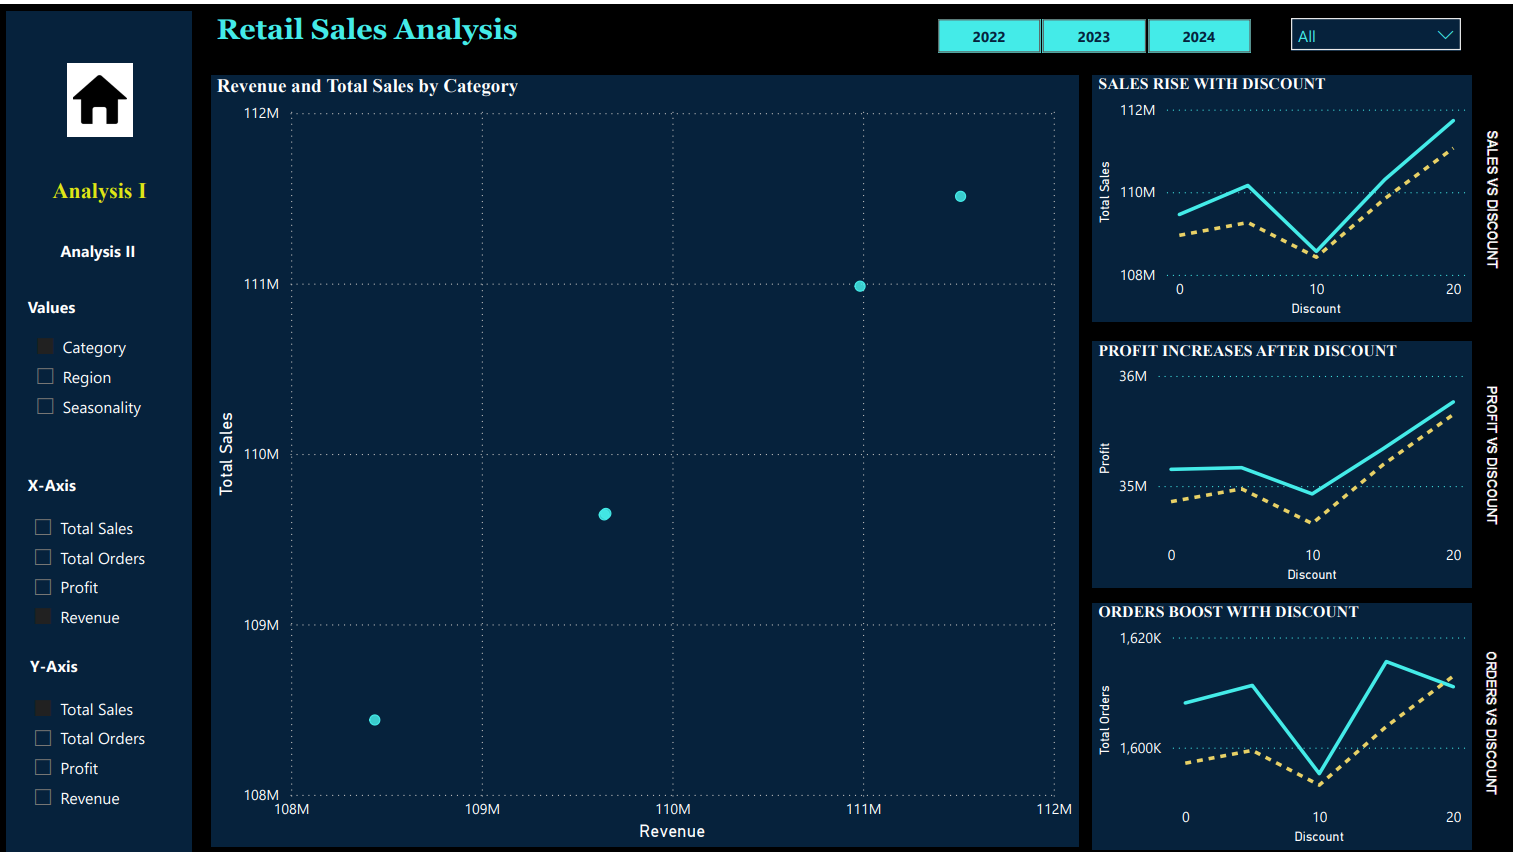

The page's visual inventory and layout, read from the dashboard file:
{"tool":"powerbi","page":{"name":"Analysis II","canvas":[1280,720],"ordinal":3},"visuals":[{"type":"shape","box":[7.5,5,156.2,711.2],"z":0},{"type":"image","box":[59.3,48.8,54.7,61.6],"z":1000},{"type":"scatterChart","fields":{"Series":["retail_store_inventory.Category"],"X":["retail_store_inventory.Revenue"],"Y":["retail_store_inventory.Total Sales"]},"box":[180.2,59.3,730.2,648.8],"z":2000},{"type":"textbox","box":[180.2,2.3,526.7,44.2],"z":3000},{"type":"lineChart","title":"ORDERS BOOST WITH DISCOUNT","fields":{"Category":["retail_store_inventory.Discount"],"Y":["retail_store_inventory.Total Orders"],"Y2":["Sum(retail_store_inventory.Units Sold)"]},"box":[922.1,503.5,318.6,207],"z":4000},{"type":"lineChart","title":"PROFIT INCREASES AFTER DISCOUNT","fields":{"Category":["retail_store_inventory.Discount"],"Y":["retail_store_inventory.Profit"],"Y2":["Sum(retail_store_inventory.Units Sold)"]},"box":[922.1,282.6,318.6,207],"z":5000},{"type":"lineChart","title":"SALES RISE WITH DISCOUNT","fields":{"Category":["retail_store_inventory.Discount"],"Y":["retail_store_inventory.Total Sales"],"Y2":["Sum(retail_store_inventory.Units Sold)"]},"box":[922.1,59.3,318.6,207],"z":6000},{"type":"image","box":[1240.5,536,39.5,138.4],"z":7000},{"type":"image","box":[1240.7,311.6,39.5,138],"z":8000},{"type":"image","box":[1241.9,94.2,37.2,138.4],"z":9000},{"type":"pageNavigator","box":[20.9,179.5,128,55.7],"z":10000},{"type":"actionButton","box":[20.9,132.2,130.8,47.3],"z":11000},{"type":"slicer","fields":{"Values":["RCparameter.RCparameter"]},"box":[20.9,270.4,127.9,107],"z":12000},{"type":"slicer","fields":{"Values":["Businessmodels.Businessmodels"]},"box":[18.6,422.1,130.2,114],"z":13000},{"type":"textbox","box":[20.9,240,72.1,32.6],"z":14000},{"type":"textbox","box":[20.9,389.5,72.1,32.6],"z":15000},{"type":"slicer","fields":{"Values":["Parameter 2.Parameter"]},"box":[18.6,574.4,130.2,133.7],"z":16000},{"type":"textbox","box":[23.3,541.9,72.1,32.6],"z":17000},{"type":"slicer","fields":{"Values":["retail_store_inventory.Year"]},"box":[766.3,4.7,312.8,41.9],"z":18000},{"type":"slicer","fields":{"Values":["retail_store_inventory.Month"]},"box":[1079.1,1.2,162.8,48.8],"z":19000}]}

Visuals, with their boxes on the page's 1280x720 design canvas (x1, y1, x2, y2). These are canvas units, not pixel positions in the 1513x852 screenshot, which may show the page scaled, cropped or inside an application window:
shape: region(8, 5, 164, 716)
image: region(59, 49, 114, 110)
scatterChart - retail_store_inventory.Category x retail_store_inventory.Revenue: region(180, 59, 910, 708)
textbox: region(180, 2, 707, 46)
"ORDERS BOOST WITH DISCOUNT" lineChart: region(922, 504, 1241, 710)
"PROFIT INCREASES AFTER DISCOUNT" lineChart: region(922, 283, 1241, 490)
"SALES RISE WITH DISCOUNT" lineChart: region(922, 59, 1241, 266)
image: region(1240, 536, 1280, 674)
image: region(1241, 312, 1280, 450)
image: region(1242, 94, 1279, 233)
pageNavigator: region(21, 180, 149, 235)
actionButton: region(21, 132, 152, 180)
slicer - RCparameter.RCparameter: region(21, 270, 149, 377)
slicer - Businessmodels.Businessmodels: region(19, 422, 149, 536)
textbox: region(21, 240, 93, 273)
textbox: region(21, 390, 93, 422)
slicer - Parameter 2.Parameter: region(19, 574, 149, 708)
textbox: region(23, 542, 95, 574)
slicer - retail_store_inventory.Year: region(766, 5, 1079, 47)
slicer - retail_store_inventory.Month: region(1079, 1, 1242, 50)
